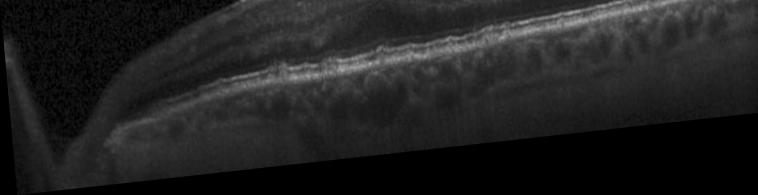intraretinal_cyst: (292, 0, 303, 7)
retinal_drusen: (481, 45, 496, 56), (323, 73, 334, 83), (216, 90, 225, 100), (425, 57, 434, 66), (644, 15, 653, 24), (278, 76, 284, 88), (464, 49, 472, 58), (199, 97, 206, 106), (503, 43, 509, 52), (557, 34, 563, 42), (446, 54, 451, 63), (377, 65, 382, 73), (266, 81, 272, 87), (407, 64, 413, 70)
